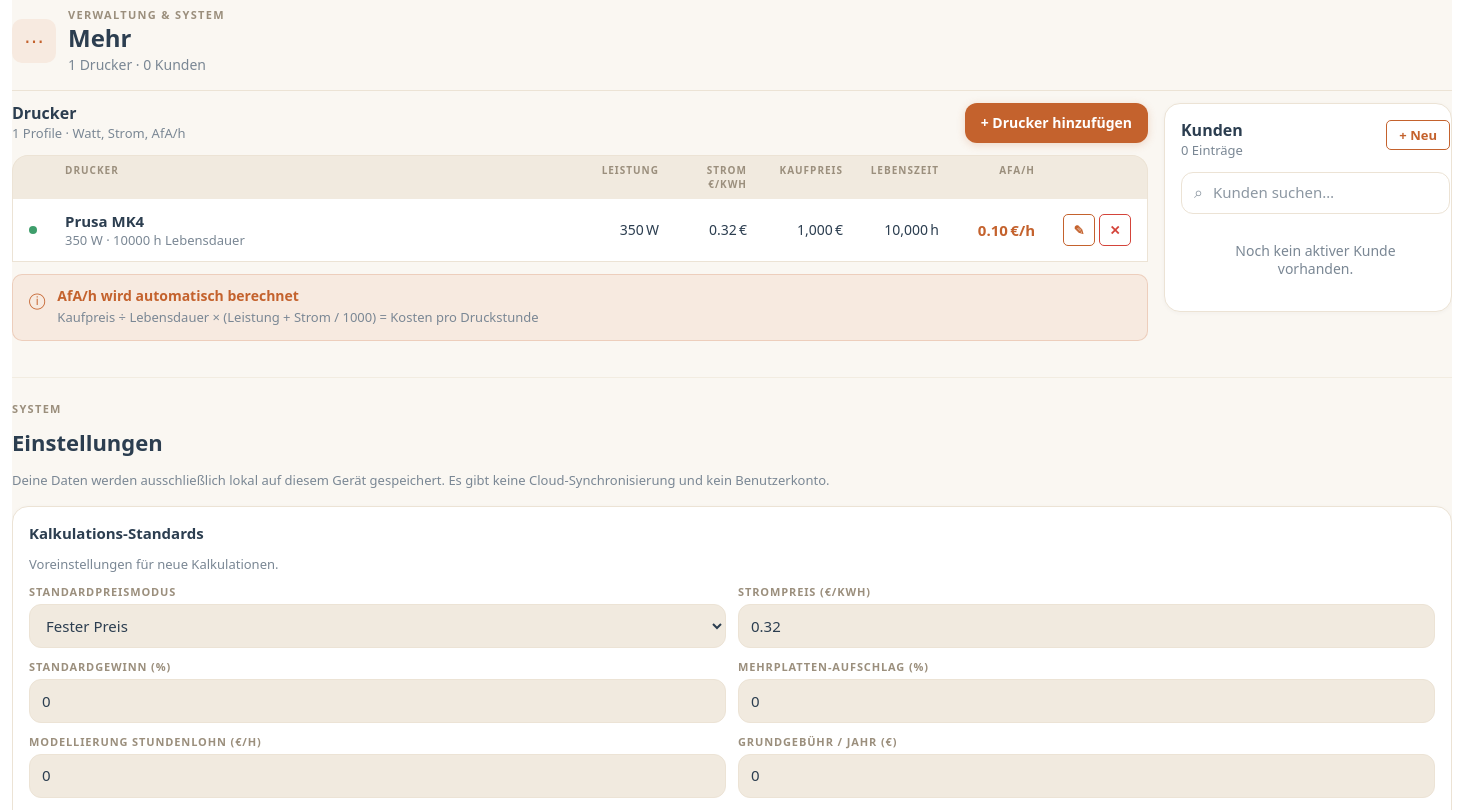
Test: MoreComponent › soft deletes an active printer directly without confirmation and removes it from list
Click the button with test id "delete-printer" at (1115, 230), box [1099,214,1131,246]
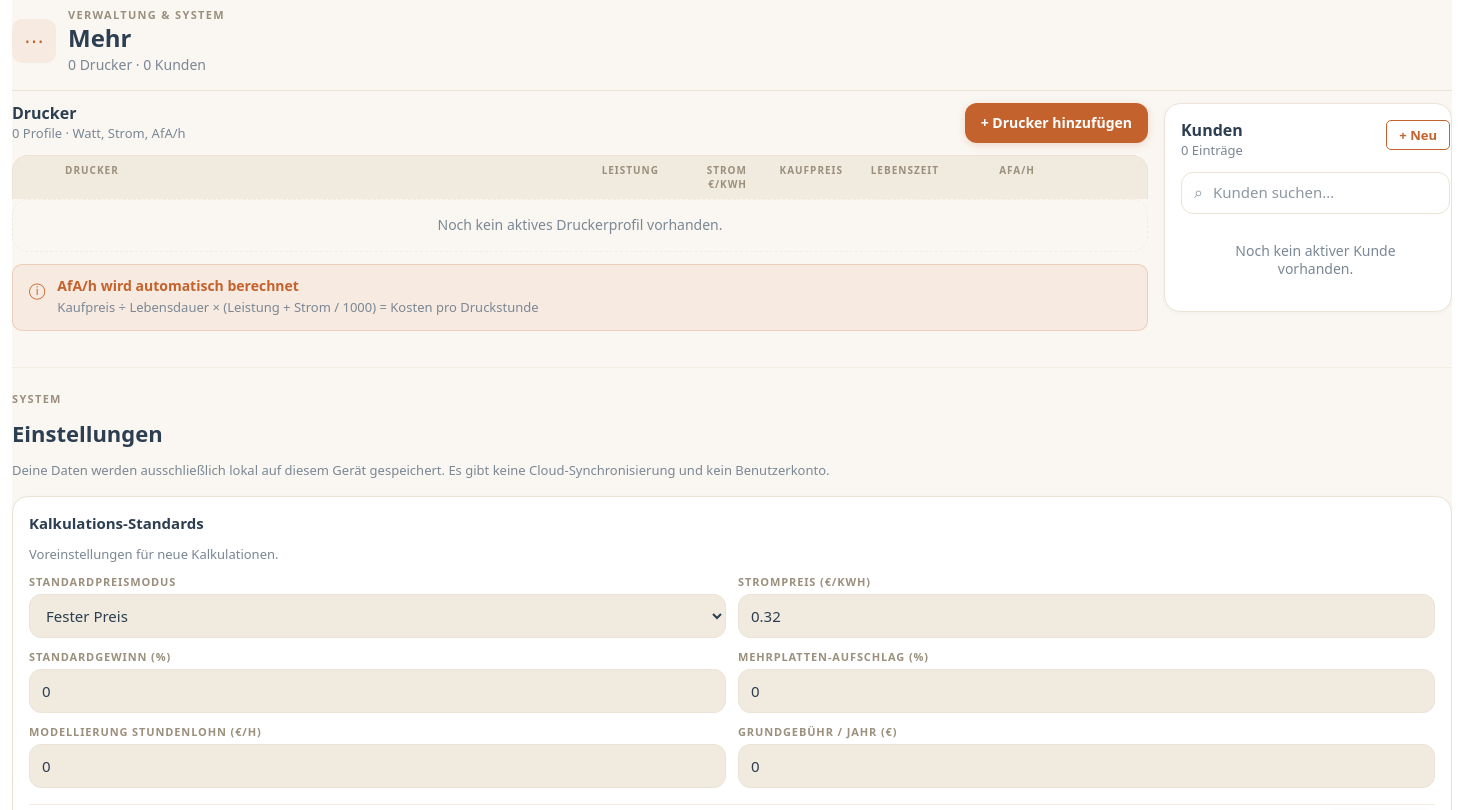
Check: the text "Noch kein aktives Druckerprofil vorhanden." is shown, box [12,199,1148,252]
